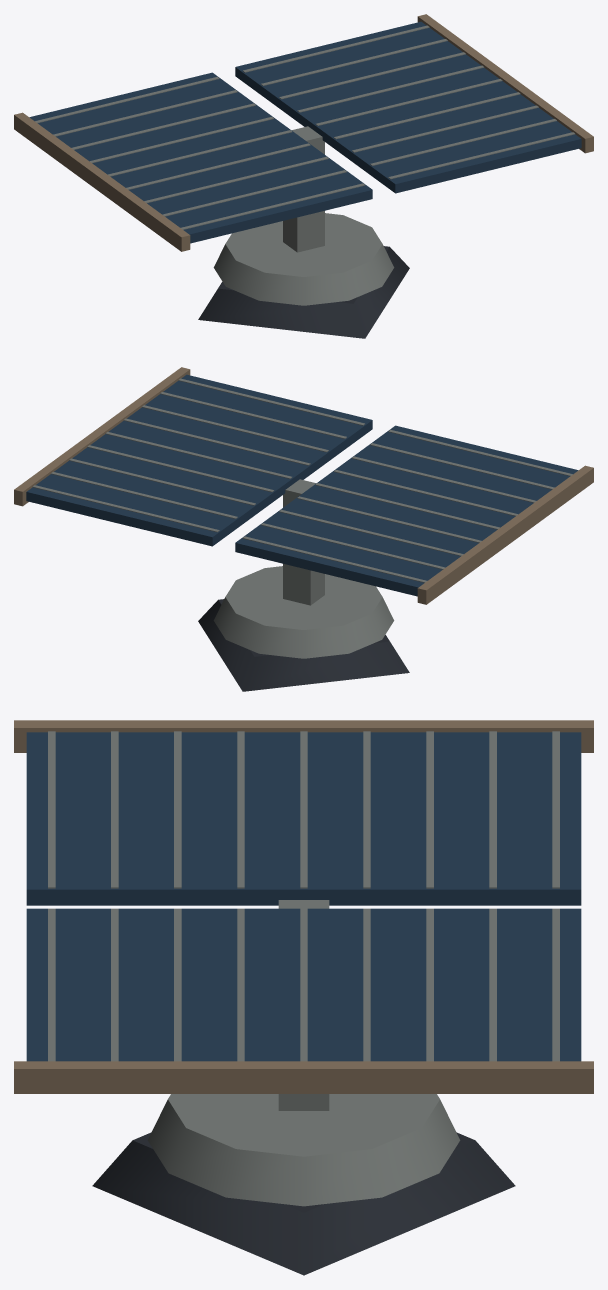
Rendered from compact_high_gravity--radiator.glb.
3 renders of one model, top to bottom at view 1: azimuth 30°, elevation 25°; view 2: azimuth 150°, elevation 25°; view 3: azimuth 270°, elevation 25°, orthographic. The views are drawn at different scales.
Parts seen in each view (by area): view 1: radiator_panel_15, radiator_panel_4, rotation_bearing_2, mount_adapter_1, panel_edge_14, panel_edge_25, thermal_riser_3, thermal_channel_19, thermal_channel_20, thermal_channel_22, thermal_channel_16, thermal_channel_18 (+13 smaller); view 2: radiator_panel_15, radiator_panel_4, rotation_bearing_2, mount_adapter_1, panel_edge_14, panel_edge_25, thermal_riser_3, thermal_channel_18, thermal_channel_20, thermal_channel_21, thermal_channel_16, thermal_channel_19 (+13 smaller); view 3: radiator_panel_4, radiator_panel_15, rotation_bearing_2, mount_adapter_1, panel_edge_25, panel_edge_14, thermal_riser_3, thermal_channel_5, thermal_channel_6, thermal_channel_7, thermal_channel_8, thermal_channel_9 (+13 smaller).
Part boxes in pixels (x1,y1,x2,y2): radiator_panel_15: (235, 21, 581, 193); radiator_panel_4: (29, 72, 372, 243); rotation_bearing_2: (213, 213, 394, 305); mount_adapter_1: (198, 246, 409, 338); panel_edge_14: (14, 112, 190, 251); panel_edge_25: (417, 14, 593, 153); thermal_riser_3: (283, 126, 324, 252); thermal_channel_19: (297, 65, 484, 112); thermal_channel_20: (315, 79, 502, 125); thermal_channel_22: (352, 105, 538, 152); thermal_channel_16: (243, 25, 429, 72); thermal_channel_18: (279, 52, 465, 99); radiator_panel_15: (26, 374, 372, 546); radiator_panel_4: (235, 425, 578, 596); rotation_bearing_2: (213, 566, 394, 658); mount_adapter_1: (198, 599, 409, 691); panel_edge_14: (417, 465, 593, 604); panel_edge_25: (14, 367, 190, 506); thermal_riser_3: (283, 479, 324, 605); thermal_channel_18: (69, 458, 255, 505); thermal_channel_20: (105, 432, 292, 478); thermal_channel_21: (123, 418, 310, 465); thermal_channel_16: (33, 485, 219, 532); thermal_channel_19: (87, 445, 274, 492); radiator_panel_4: (26, 732, 581, 905); radiator_panel_15: (26, 908, 581, 1061); rotation_bearing_2: (147, 1094, 460, 1206); mount_adapter_1: (92, 1132, 515, 1275); panel_edge_25: (14, 1061, 593, 1093); panel_edge_14: (14, 720, 593, 752); thermal_riser_3: (278, 900, 329, 1110); thermal_channel_5: (552, 731, 559, 888); thermal_channel_6: (489, 731, 496, 888); thermal_channel_7: (426, 731, 433, 888); thermal_channel_8: (363, 731, 370, 888); thermal_channel_9: (300, 731, 307, 888).
Size of the model in its own units: 19.62 by 7.65 by 13.8.
